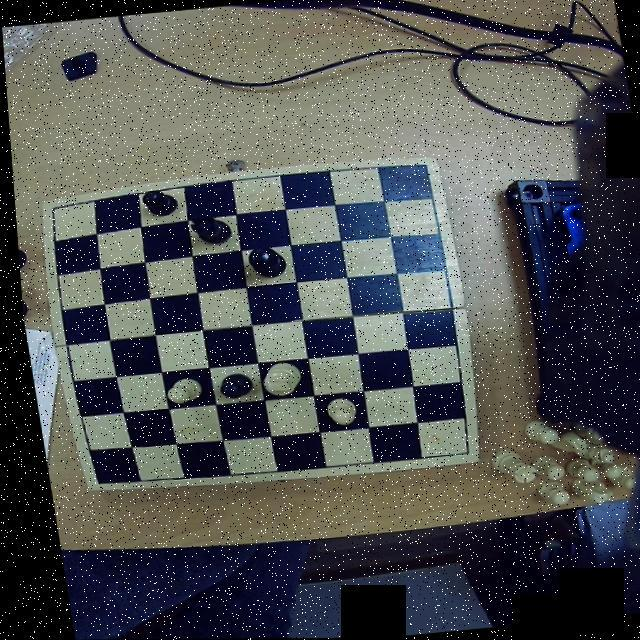chess-table-corners: (406, 158, 434, 181), (447, 439, 472, 462), (77, 474, 107, 491), (37, 203, 61, 223)
